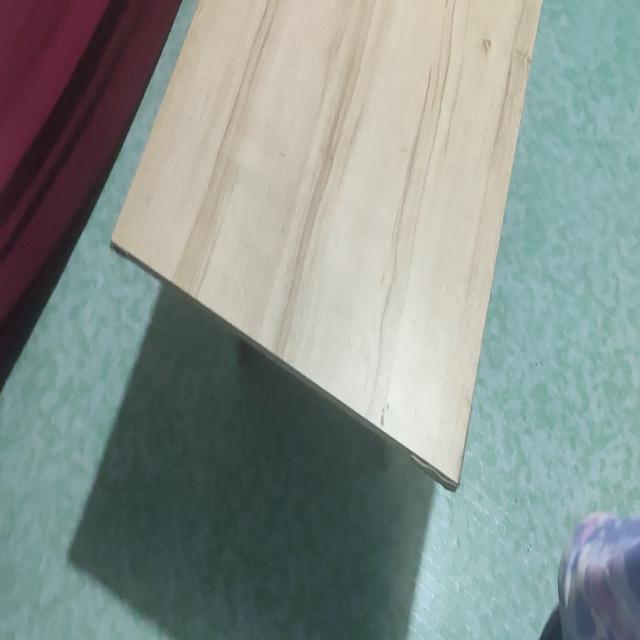table: (104, 0, 543, 509)
